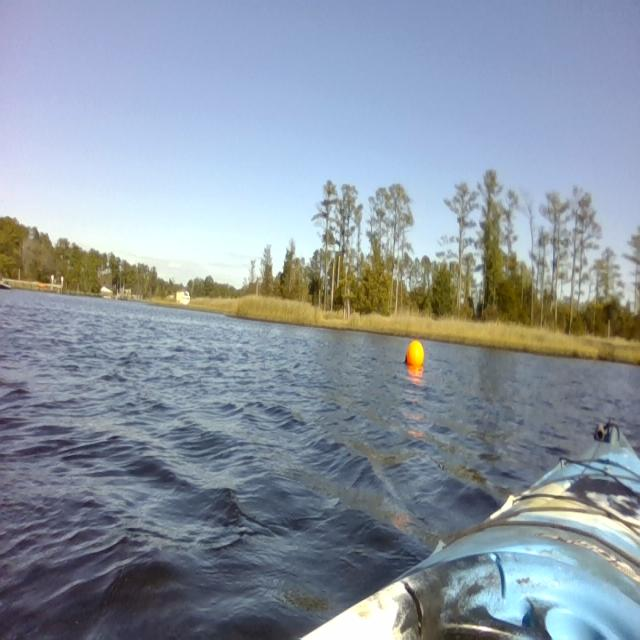Buoy: (401, 336, 431, 379)
